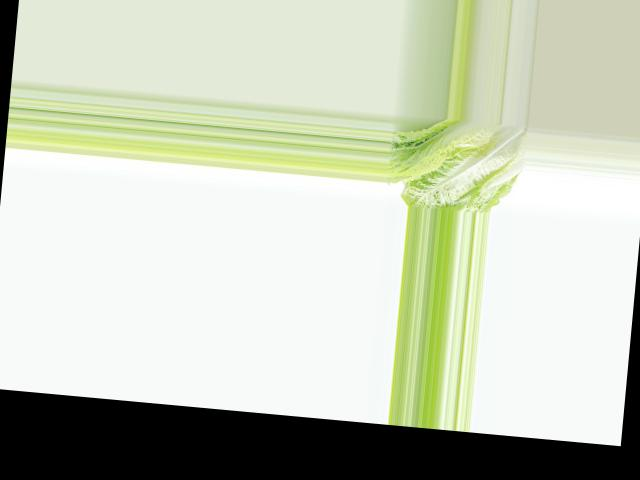lettuce: (383, 114, 528, 215)
